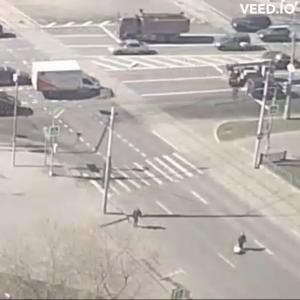car: (29, 60, 112, 102), (117, 11, 193, 48), (109, 41, 156, 61), (257, 25, 300, 45), (234, 17, 274, 35), (215, 35, 254, 53), (1, 95, 22, 118)
